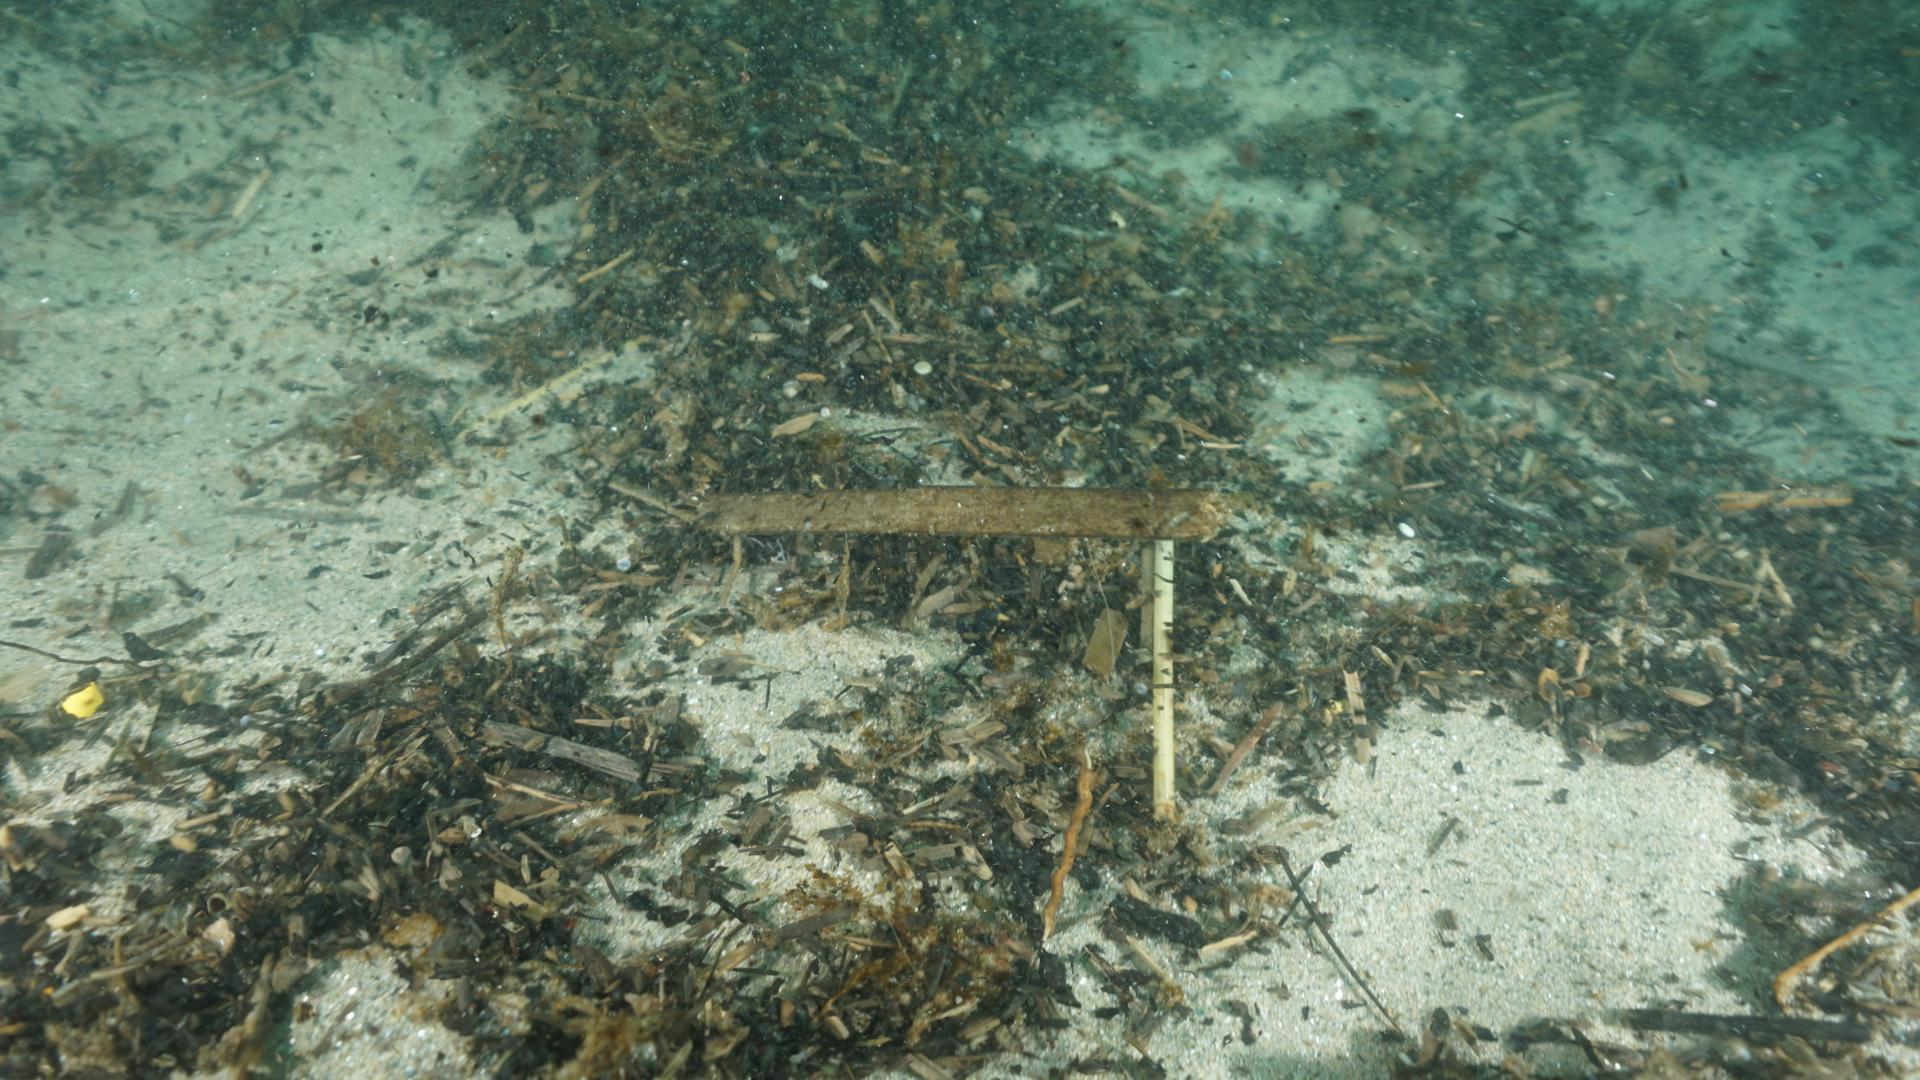wood: (687, 477, 1232, 535)
